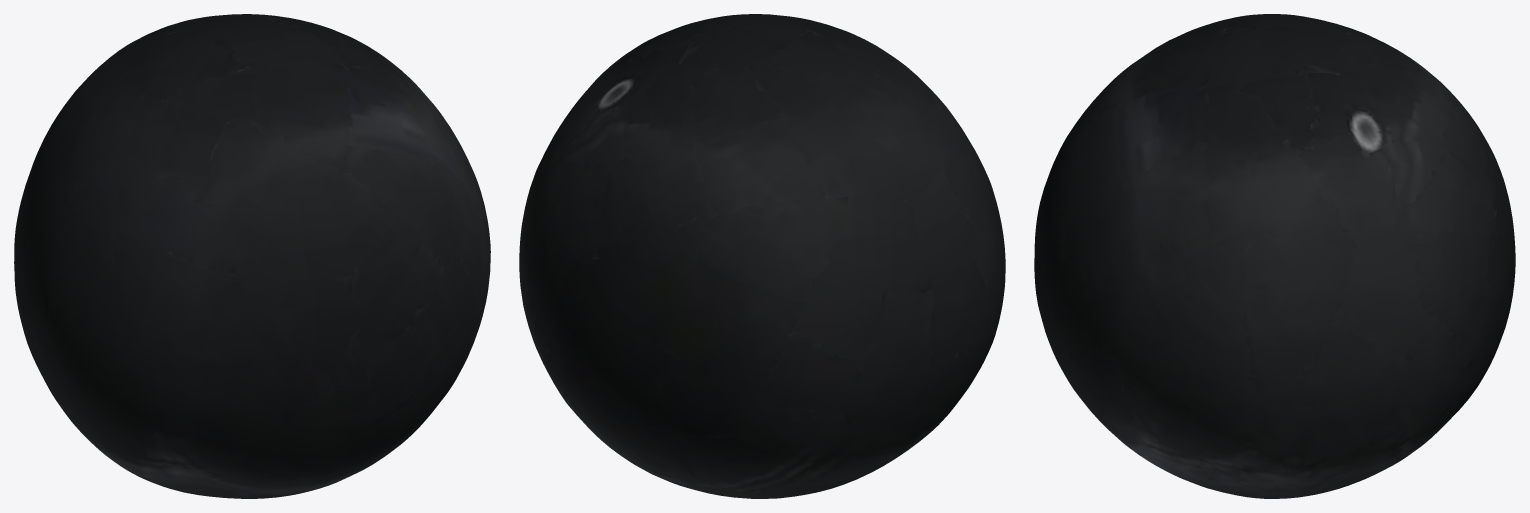
File: bubble.glb
The picture shows the model from 3 angles, left to right: view 1: azimuth 30°, elevation 25°; view 2: azimuth 150°, elevation 25°; view 3: azimuth 270°, elevation 25°; orthographic projection.
Size of the model in its own units: 1.9 by 1.86 by 1.87.
1 material, 1 textured.
